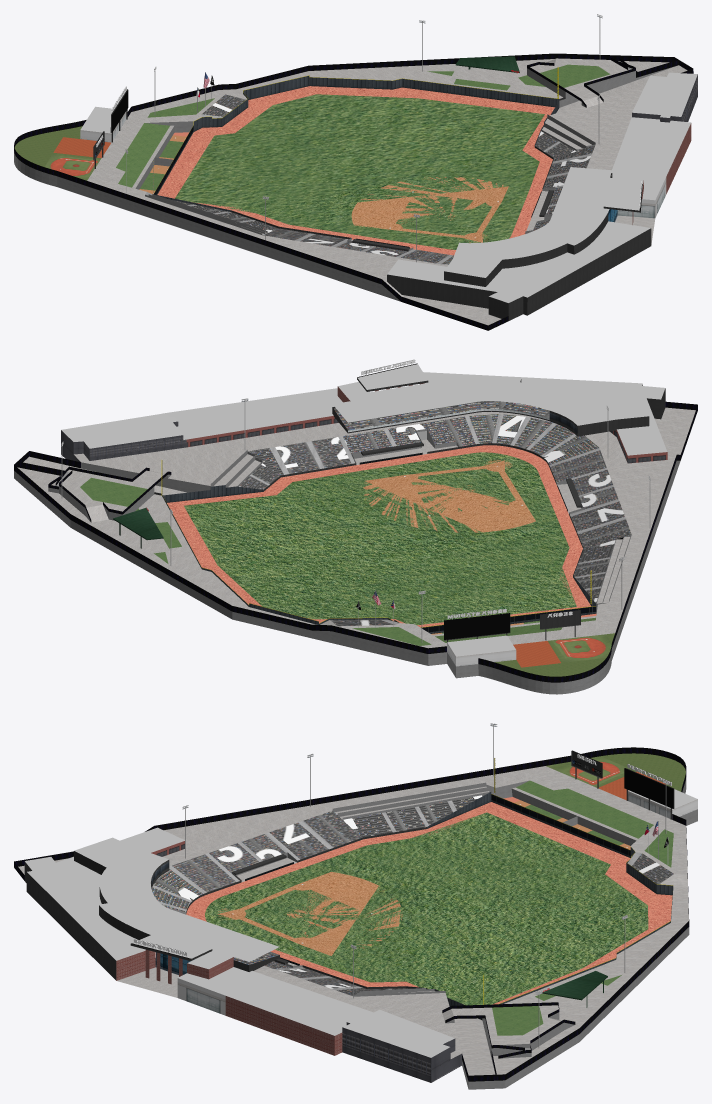
Rendered from segra_stadium.obj.
3 views of the same model, one above another, from view 1: azimuth 30°, elevation 25°; view 2: azimuth 150°, elevation 25°; view 3: azimuth 270°, elevation 25° (orthographic). The views are drawn at different scales.
Parts seen in each view (by area): view 1: flag.002, Stadium.001; view 2: flag.002, Stadium.001; view 3: flag.002, Stadium.001.
Part boxes in pixels (x1,y1,x2,y2): flag.002: [14, 14, 697, 330]; Stadium.001: [157, 86, 554, 255]; flag.002: [14, 359, 697, 694]; Stadium.001: [167, 445, 590, 627]; flag.002: [14, 723, 697, 1089]; Stadium.001: [186, 802, 672, 1005].
Bounding box in the file's own units: 211 × 19.76 × 188.
